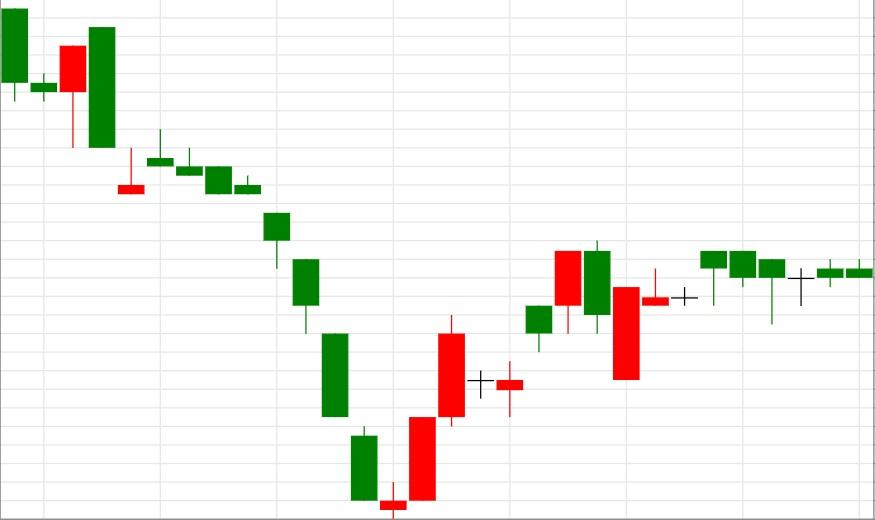bearish_engulfing_fall: (496, 240, 612, 418)
morning_star_rise: (146, 130, 437, 520)
